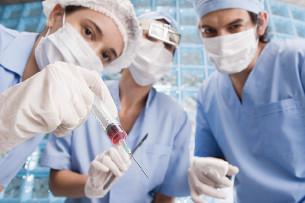OK: (43, 21, 118, 83), (201, 18, 258, 75), (131, 33, 178, 83)
